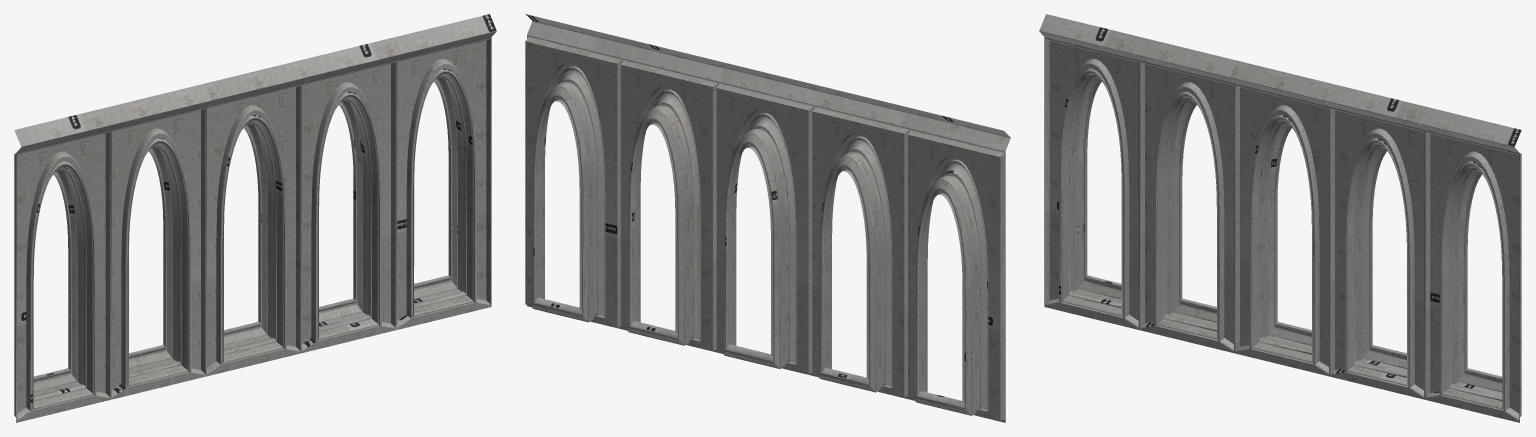
Rendered from Ventanales.fbx.
3 renders of one model, left to right at view 1: azimuth 30°, elevation 25°; view 2: azimuth 150°, elevation 25°; view 3: azimuth 330°, elevation 25°, orthographic.
Parts seen in each view (by area): view 1: Ventanales; view 2: Ventanales; view 3: Ventanales.
Boxes of the visible parts, box(x1,y1,x2,y2) form: Ventanales: box(14, 14, 496, 422); Ventanales: box(525, 14, 1010, 422); Ventanales: box(1039, 14, 1521, 422).
Size of the model in its own units: 331 by 194 by 26.63.
